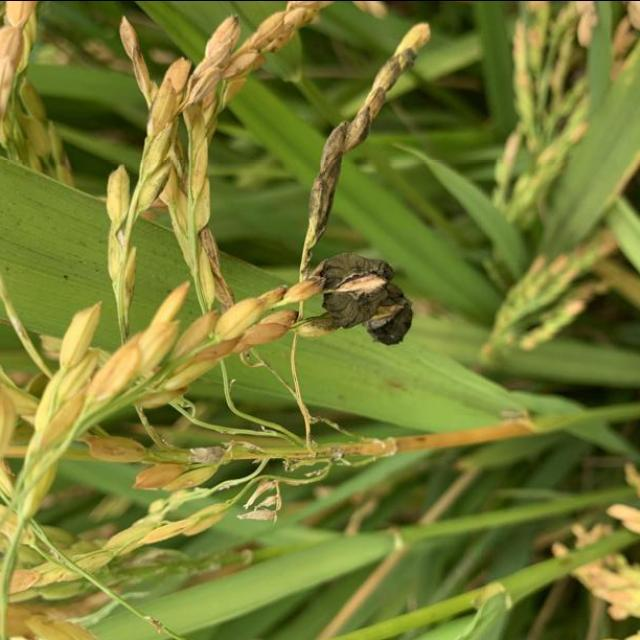Leaf_Scald: (300, 250, 412, 346)
